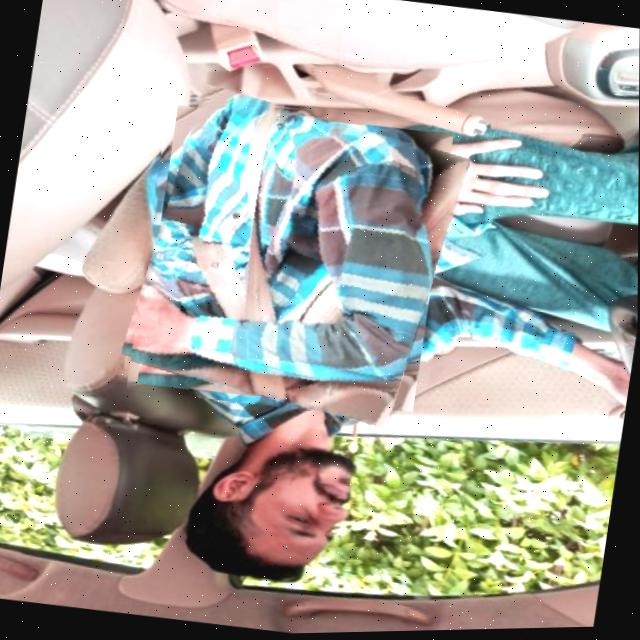seatbelt: (125, 85, 465, 431)
